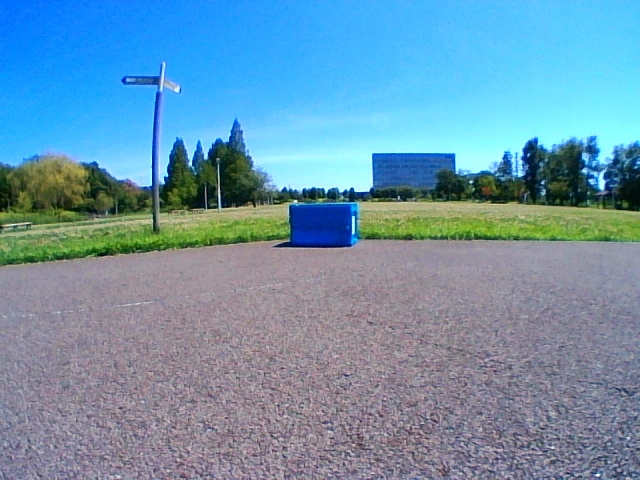blue_box: (291, 203, 357, 247)
tag: (352, 215, 355, 233)
